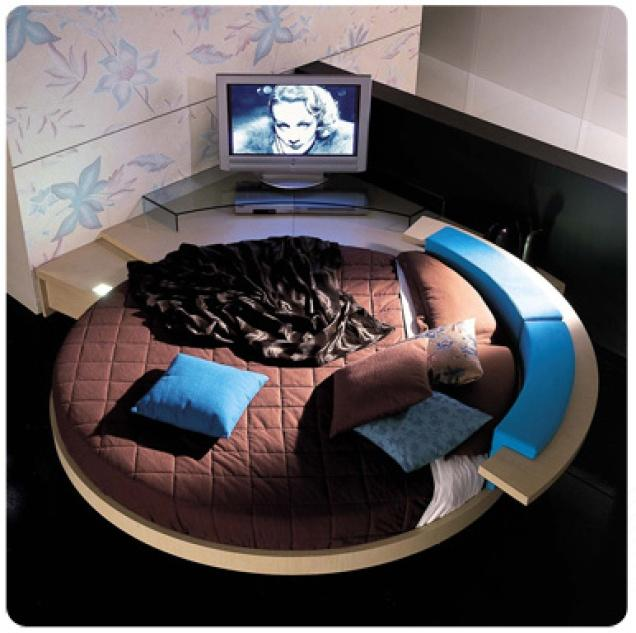AIO PC-Monitor-TV: (215, 73, 372, 177)
